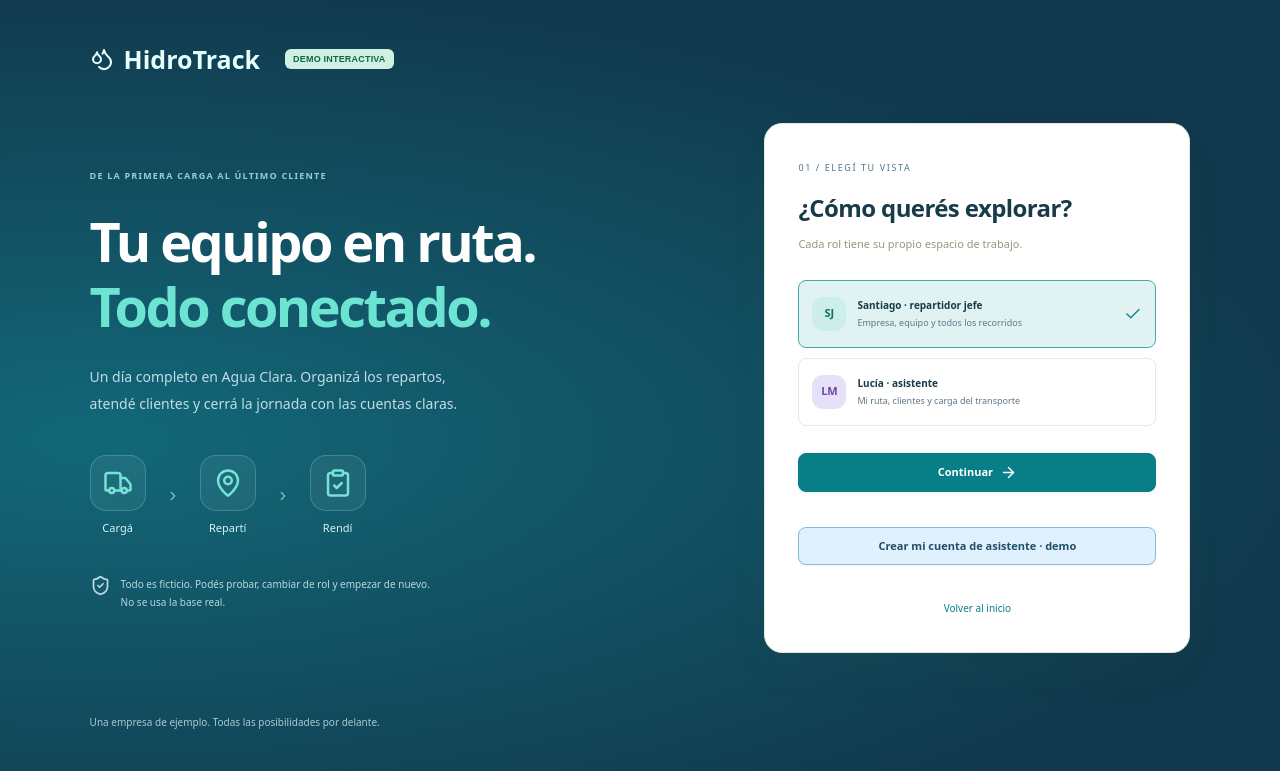
recorridos navegables de la demo › muestra carga sugerida mientras el jefe arma el recorrido
Click the button "Continuar": point(977, 472) [798, 453, 1156, 492]
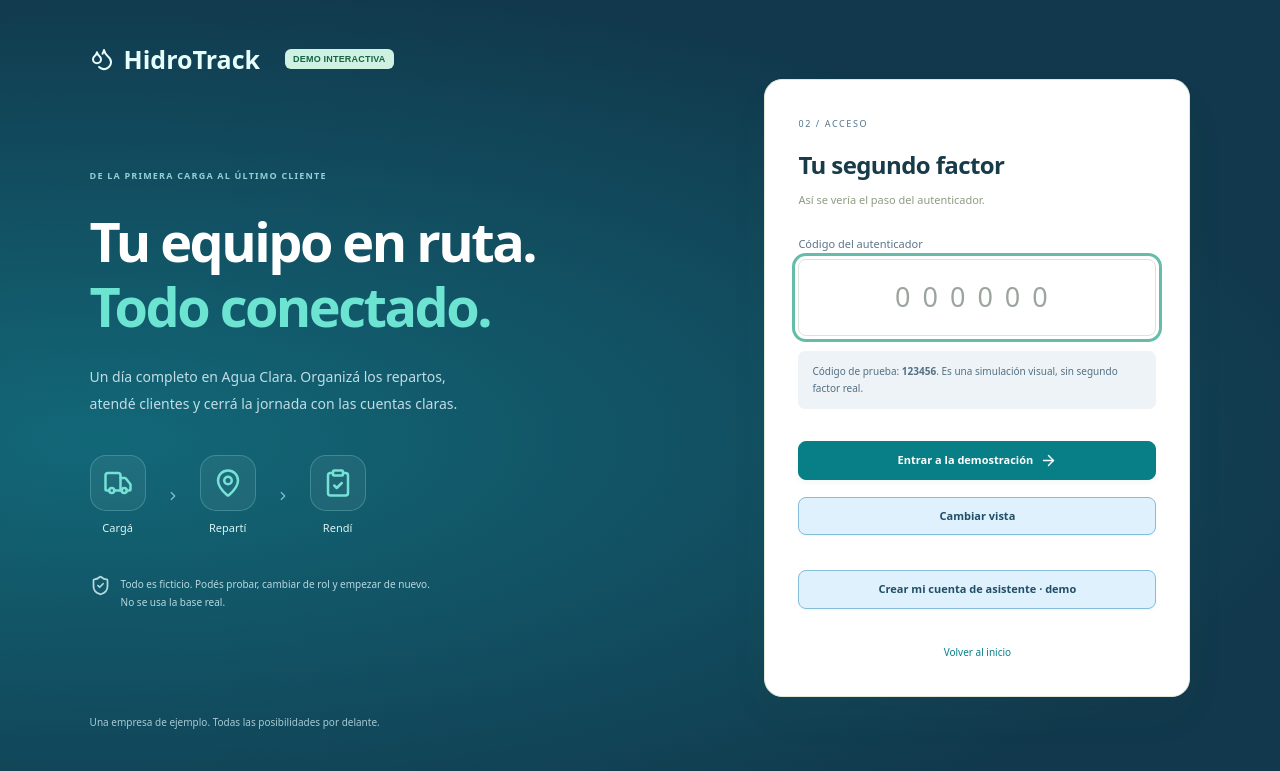
In the field labelled "Código del autenticador": point(977, 298) [798, 260, 1156, 336], type "123456"
Click the button "Entrar a la demostración": point(977, 460) [798, 441, 1156, 480]
(page scrolled)
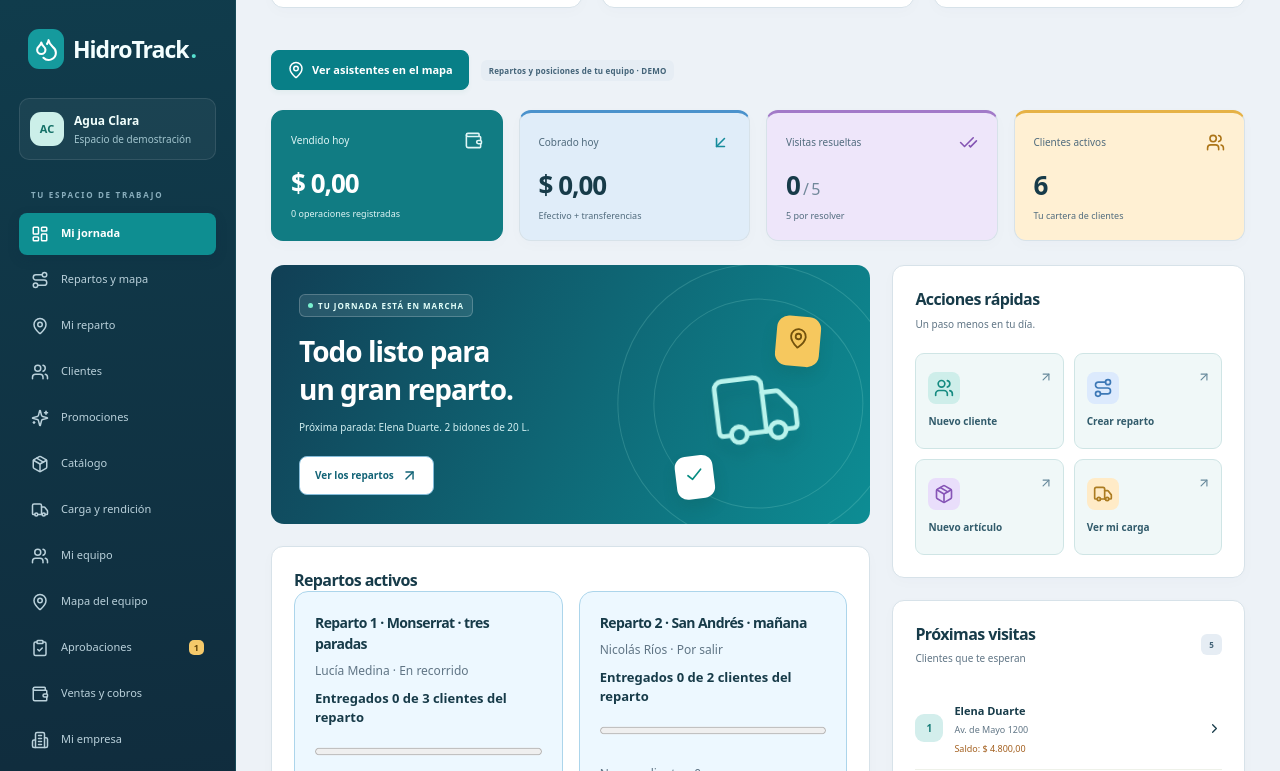
Click the button "Crear reparto": point(1148, 400) [1074, 352, 1222, 448]
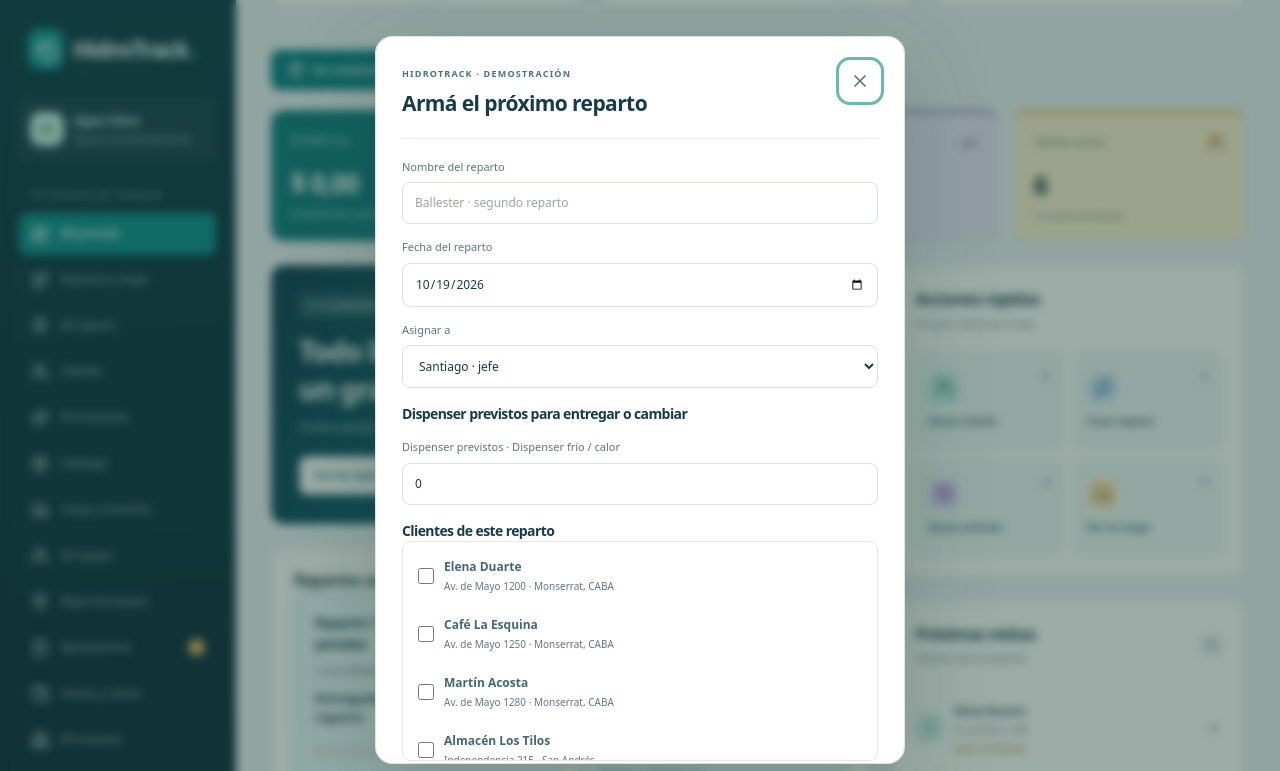
Click the checkbox labelled "Elena Duarte Av. de Mayo 1200 · Monserrat, CABA": point(426, 576) [418, 568, 434, 584]
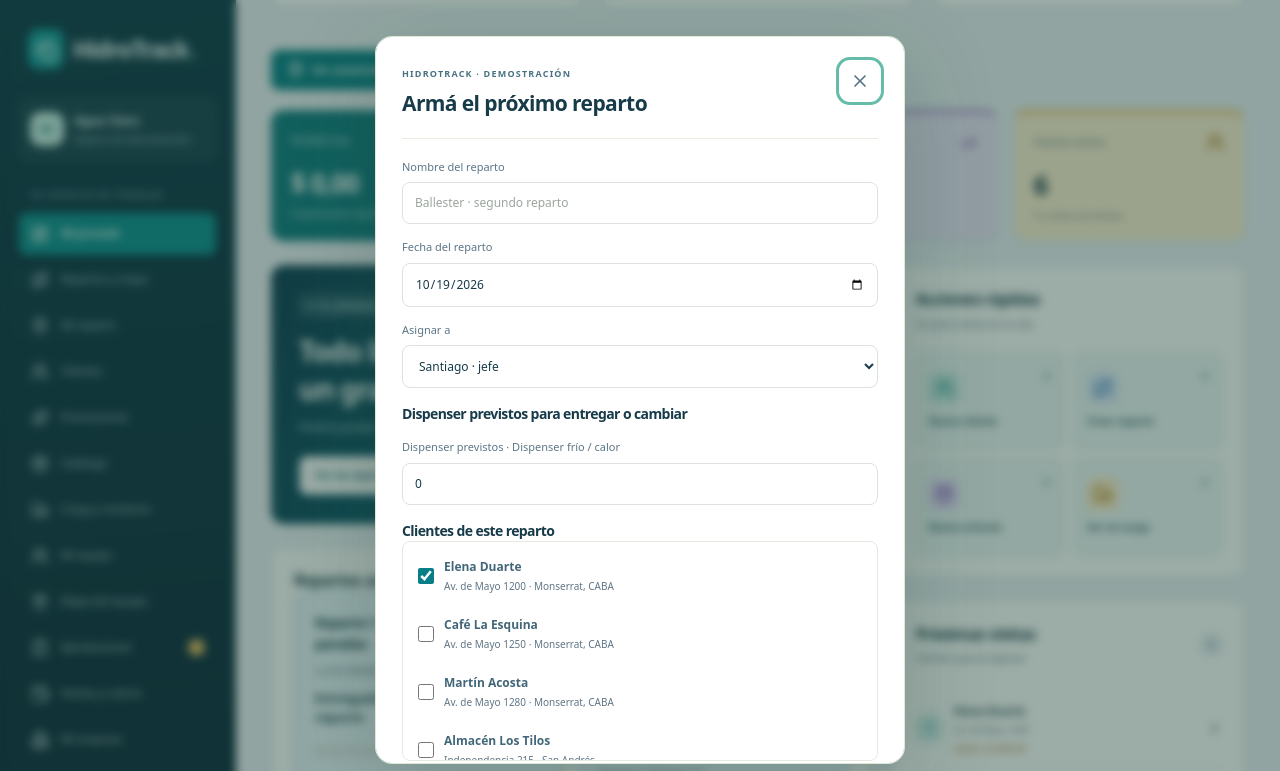
Click the checkbox labelled "Café La Esquina Av. de Mayo 1250 · Monserrat, CABA": point(426, 634) [418, 626, 434, 642]
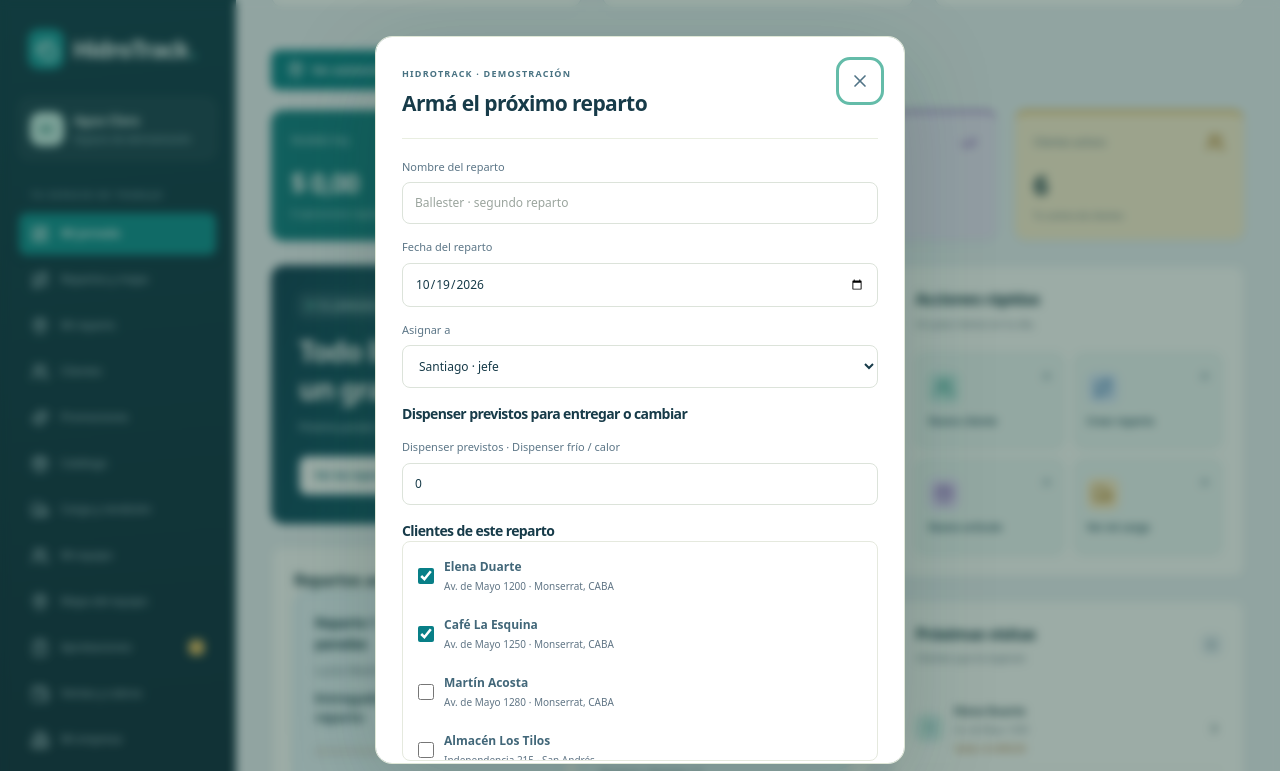
Replace the text in the number field labelled "Dispenser previstos · Dispenser frío / calor" with "1": point(640, 484) [402, 463, 878, 505]
(page scrolled)
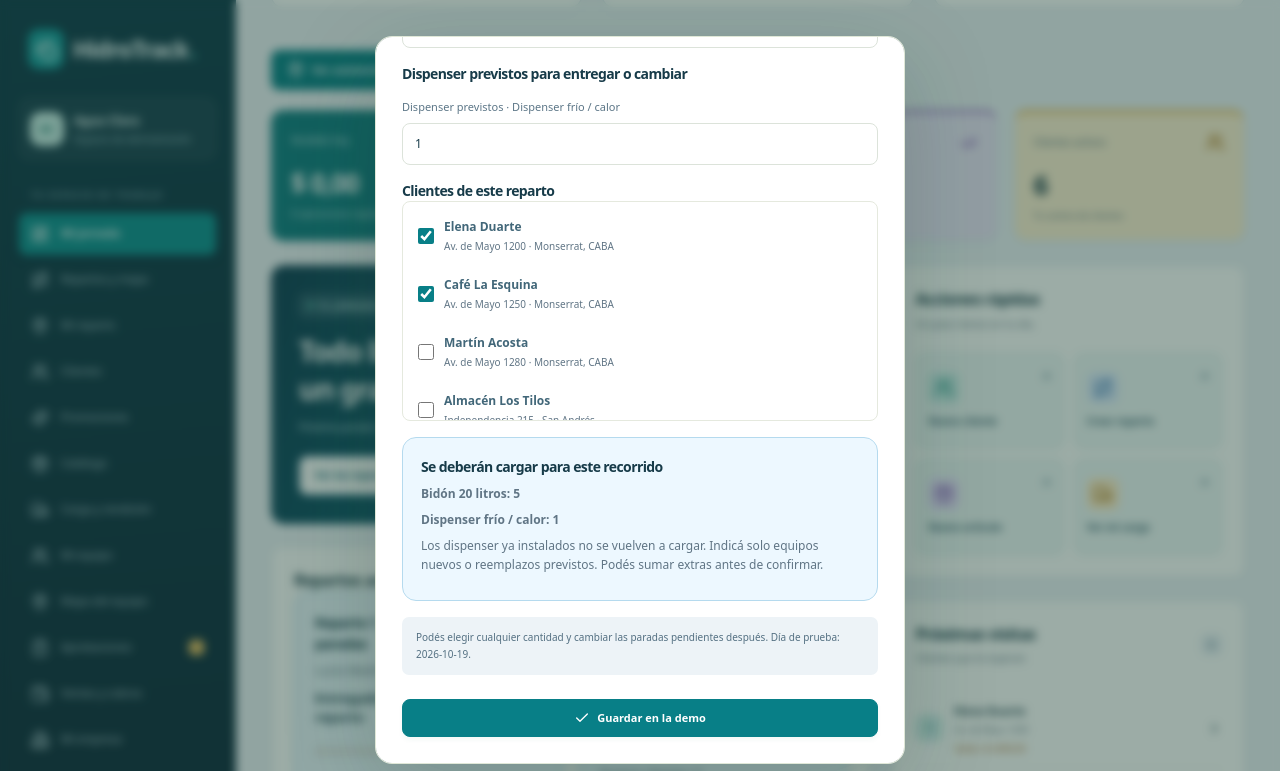
Check: the text "Bidón 20 litros: 5" is shown, box [421, 485, 520, 502]
Check: the text "Dispenser frío / calor: 1" is shown, box [421, 511, 560, 528]
